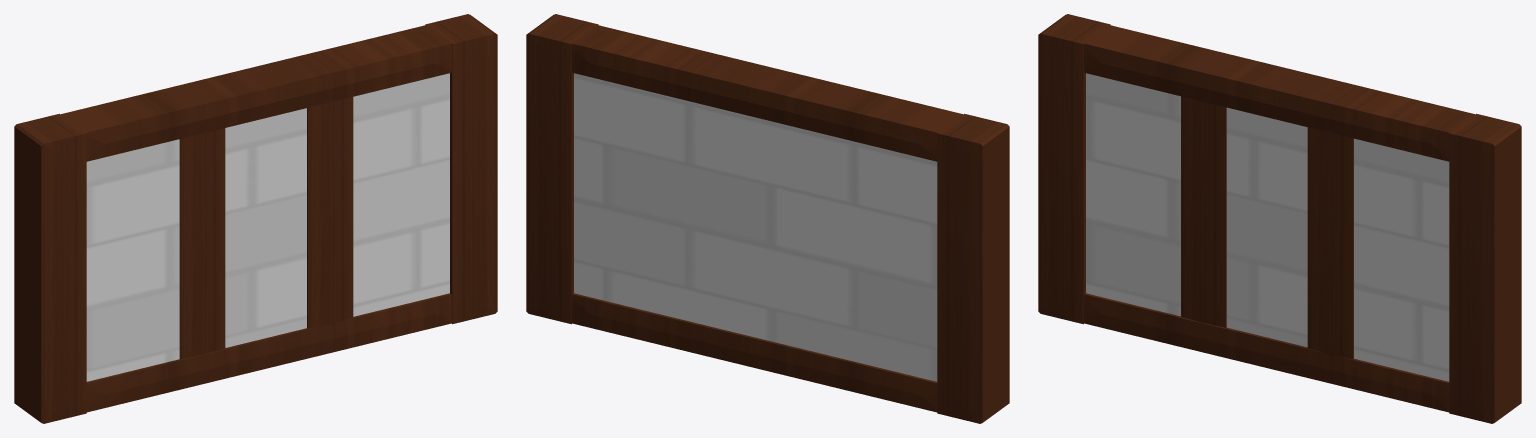
The model's file is Half_Wall_Var1_Brick.fbx.
3 views of the same model, side by side, from view 1: azimuth 30°, elevation 25°; view 2: azimuth 150°, elevation 25°; view 3: azimuth 330°, elevation 25° (orthographic).
Visible parts, largest first — view 1: Half_Wall_Var1; view 2: Half_Wall_Var1; view 3: Half_Wall_Var1.
Part boxes in pixels (box(x1,y1,x2,y2)): Half_Wall_Var1: box(14, 14, 497, 423); Half_Wall_Var1: box(526, 14, 1009, 423); Half_Wall_Var1: box(1038, 14, 1521, 423).
Bounding box in the file's own units: 212 × 124 × 23.4.
